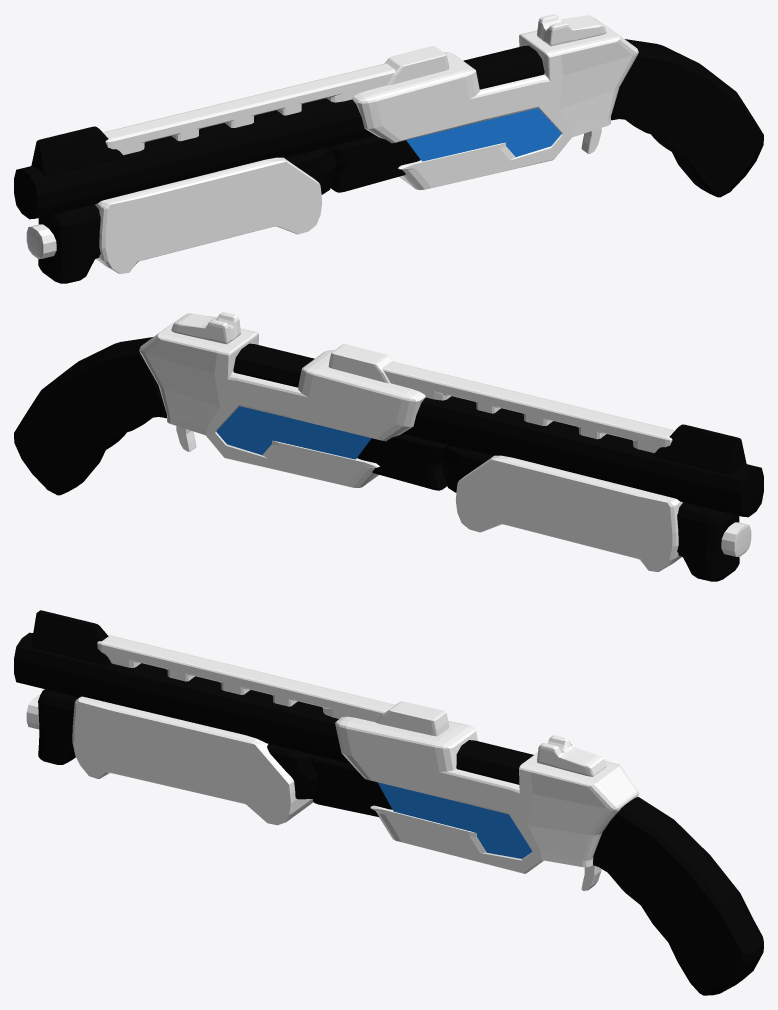
File: SPACE-14.fbx
3 renders of one model, top to bottom at view 1: azimuth 30°, elevation 25°; view 2: azimuth 150°, elevation 25°; view 3: azimuth 330°, elevation 25°, orthographic.
Parts seen in each view (by area): view 1: Cube, Cube.003, Cube.005, Cube.006, Cube.009, Cube.004, Cube.001, Cube.002, Cube.010, Cube.007, Cube.008, Cube.011; view 2: Cube, Cube.003, Cube.005, Cube.006, Cube.009, Cube.004, Cube.001, Cube.002, Cube.010, Cube.007, Cube.008, Cube.011; view 3: Cube, Cube.006, Cube.003, Cube.005, Cube.009, Cube.001, Cube.004, Cube.002, Cube.010, Cube.007, Cube.008.
Boxes of the visible parts, x1,y1,x2,y2 form: Cube: (352, 18, 638, 189); Cube.003: (14, 45, 544, 219); Cube.005: (95, 157, 322, 273); Cube.006: (611, 39, 763, 197); Cube.009: (103, 63, 395, 155); Cube.004: (38, 147, 335, 283); Cube.001: (406, 108, 561, 161); Cube.002: (327, 135, 420, 192); Cube.010: (31, 126, 123, 176); Cube.007: (537, 14, 606, 46); Cube.008: (384, 46, 449, 85); Cube.011: (26, 224, 56, 258); Cube: (139, 316, 425, 487); Cube.003: (233, 343, 763, 517); Cube.005: (455, 455, 682, 571); Cube.006: (14, 337, 166, 495); Cube.009: (382, 361, 674, 453); Cube.004: (442, 445, 739, 581); Cube.001: (216, 406, 371, 459); Cube.002: (357, 433, 450, 490); Cube.010: (654, 424, 746, 474); Cube.007: (171, 312, 240, 344); Cube.008: (328, 344, 393, 383); Cube.011: (721, 522, 751, 556); Cube: (335, 716, 638, 873); Cube.006: (593, 797, 763, 995); Cube.003: (14, 632, 533, 784); Cube.005: (72, 696, 313, 825); Cube.009: (97, 635, 395, 722); Cube.001: (378, 782, 532, 858); Cube.004: (38, 689, 319, 799); Cube.002: (310, 755, 392, 816); Cube.010: (31, 610, 111, 665); Cube.007: (537, 735, 606, 776); Cube.008: (376, 701, 449, 736).
Bounding box in the file's own units: 623 × 175 × 46.26.
